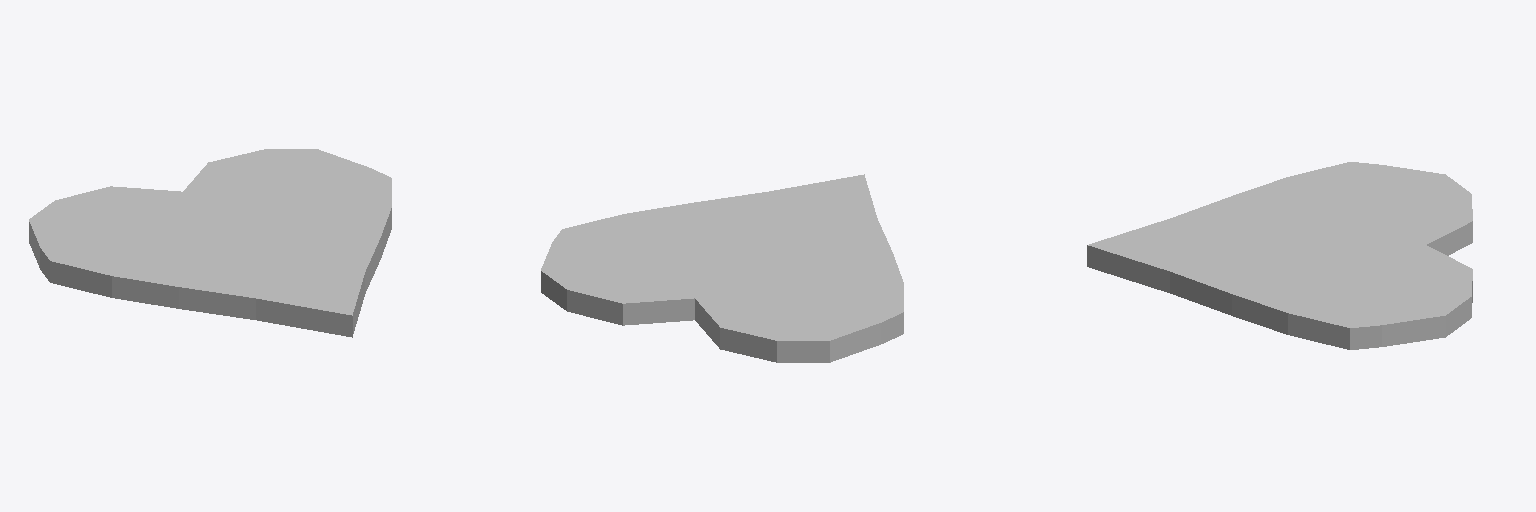
Rendered from Pepparkak-Hjärta.obj.
3 views of the same model, side by side, from view 1: azimuth 30°, elevation 25°; view 2: azimuth 150°, elevation 25°; view 3: azimuth 270°, elevation 25° (orthographic).
Visible parts, largest first — view 1: Plane; view 2: Plane; view 3: Plane.
Boxes of the visible parts, x1,y1,x2,y2 form: Plane: [29, 149, 391, 337]; Plane: [541, 174, 903, 362]; Plane: [1087, 162, 1472, 349].
Size of the model in its own units: 0.9308 by 0.0571 by 0.911.